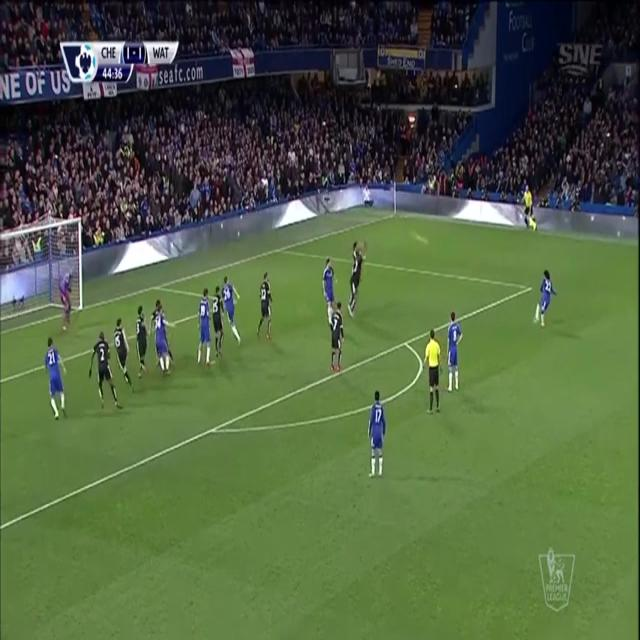Ball: (409, 224, 434, 255)
Goalkeeper: (59, 266, 78, 326)
Player: (88, 328, 123, 414), (44, 337, 70, 422), (112, 314, 136, 392), (368, 388, 387, 482), (346, 238, 368, 318), (221, 275, 244, 346), (194, 287, 214, 367), (532, 267, 558, 328), (446, 310, 464, 394), (255, 269, 274, 343), (328, 300, 346, 376), (155, 308, 172, 379), (211, 282, 226, 359), (136, 304, 150, 381), (321, 254, 337, 313)
Referee: (421, 328, 444, 417), (520, 182, 539, 234)
